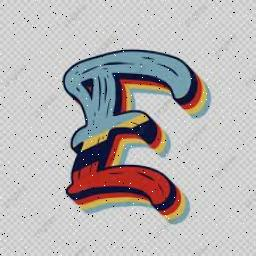e: (71, 48, 213, 230)
